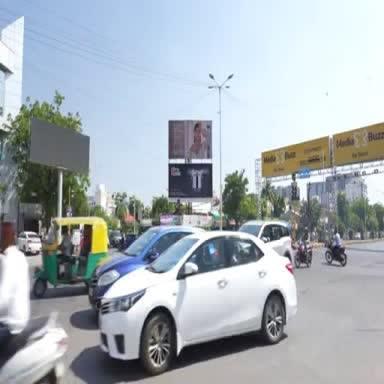Car: (99, 232, 297, 375), (88, 226, 203, 311), (238, 220, 293, 262), (18, 232, 41, 254), (109, 231, 122, 248)
